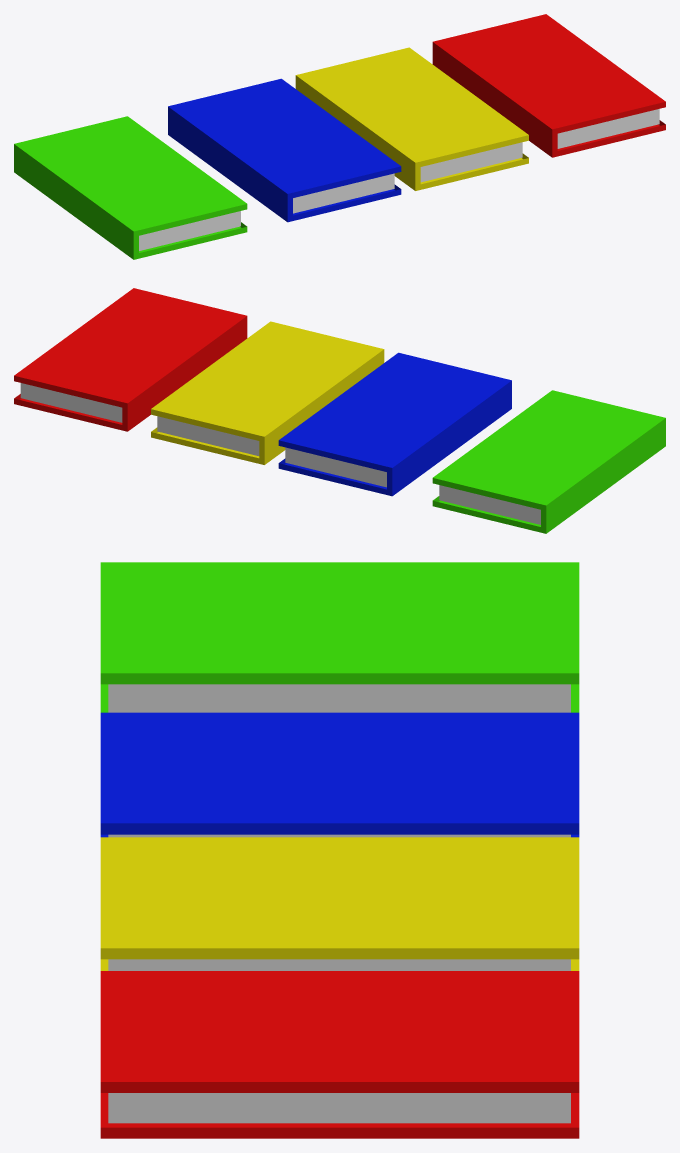
The model's file is libros.fbx.
The picture shows the model from 3 angles, top to bottom: view 1: azimuth 30°, elevation 25°; view 2: azimuth 150°, elevation 25°; view 3: azimuth 270°, elevation 25°; orthographic projection. The views are drawn at different scales.
Parts seen in each view (by area): view 1: Cube, Cube.007, Cube.005, Cube.003, Cube.001, Cube.002, Cube.006, Cube.004; view 2: Cube.007, Cube, Cube.005, Cube.003, Cube.001, Cube.002, Cube.004, Cube.006; view 3: Cube.005, Cube.007, Cube.003, Cube, Cube.002, Cube.006, Cube.001, Cube.004.
Part boxes in pixels (x1,y1,x2,y2): Cube: [168, 78, 401, 222]; Cube.007: [14, 116, 247, 259]; Cube.005: [432, 14, 665, 157]; Cube.003: [295, 47, 528, 190]; Cube.001: [420, 142, 522, 182]; Cube.002: [557, 109, 659, 148]; Cube.006: [139, 211, 240, 250]; Cube.004: [293, 173, 394, 213]; Cube.007: [432, 390, 665, 533]; Cube: [278, 352, 511, 496]; Cube.005: [14, 288, 247, 431]; Cube.003: [151, 321, 384, 464]; Cube.001: [157, 416, 259, 455]; Cube.002: [20, 383, 122, 422]; Cube.004: [285, 447, 386, 487]; Cube.006: [439, 485, 540, 524]; Cube.005: [100, 971, 579, 1138]; Cube.007: [100, 562, 579, 712]; Cube.003: [100, 837, 579, 970]; Cube: [100, 712, 579, 837]; Cube.002: [108, 1093, 570, 1123]; Cube.006: [108, 684, 570, 712]; Cube.001: [108, 959, 570, 970]; Cube.004: [108, 834, 570, 837].
Size of the model in its own units: 513 by 26.16 by 200.
